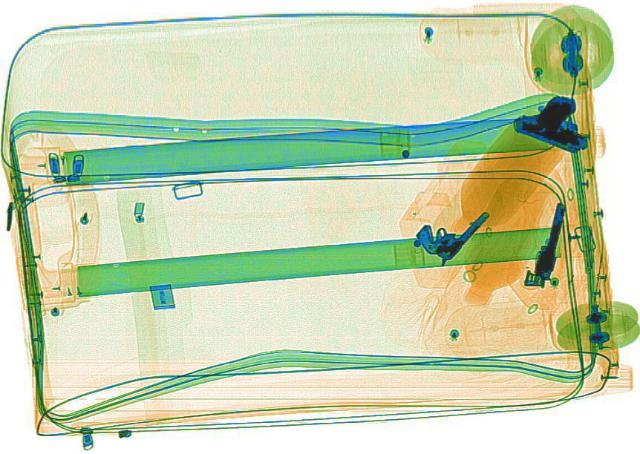Gun: (502, 80, 612, 155), (399, 197, 505, 263), (519, 199, 579, 289)
